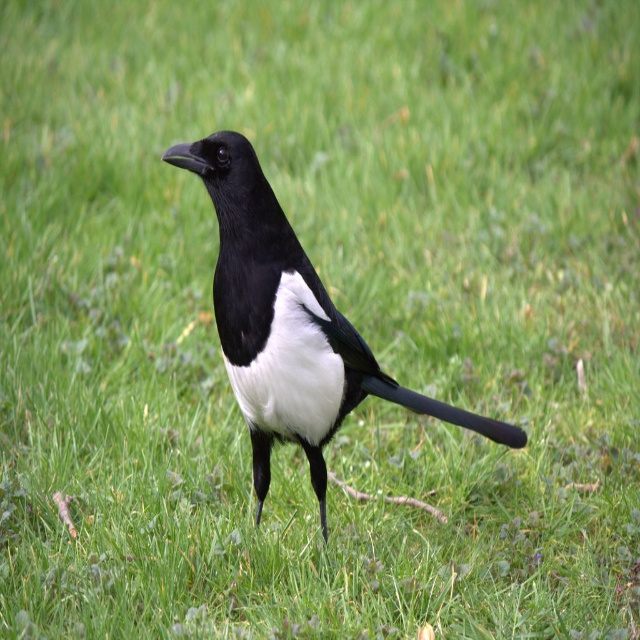Magpie: (162, 130, 528, 543)
